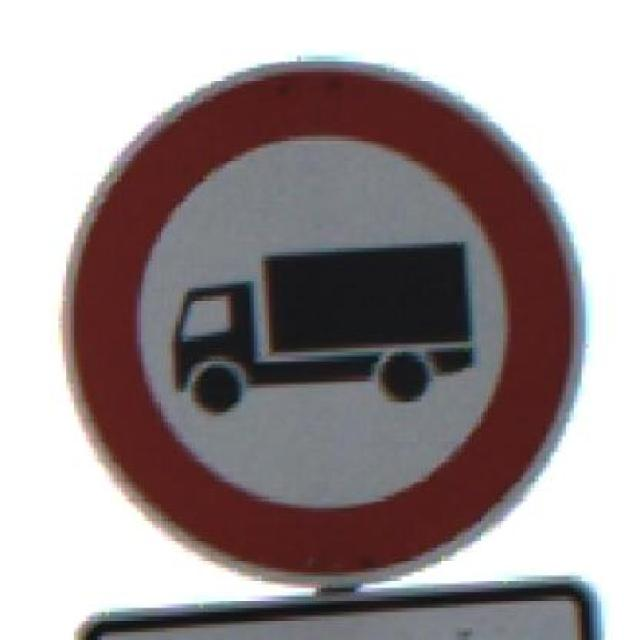Truck traffic is prohibited: (42, 52, 606, 580)
